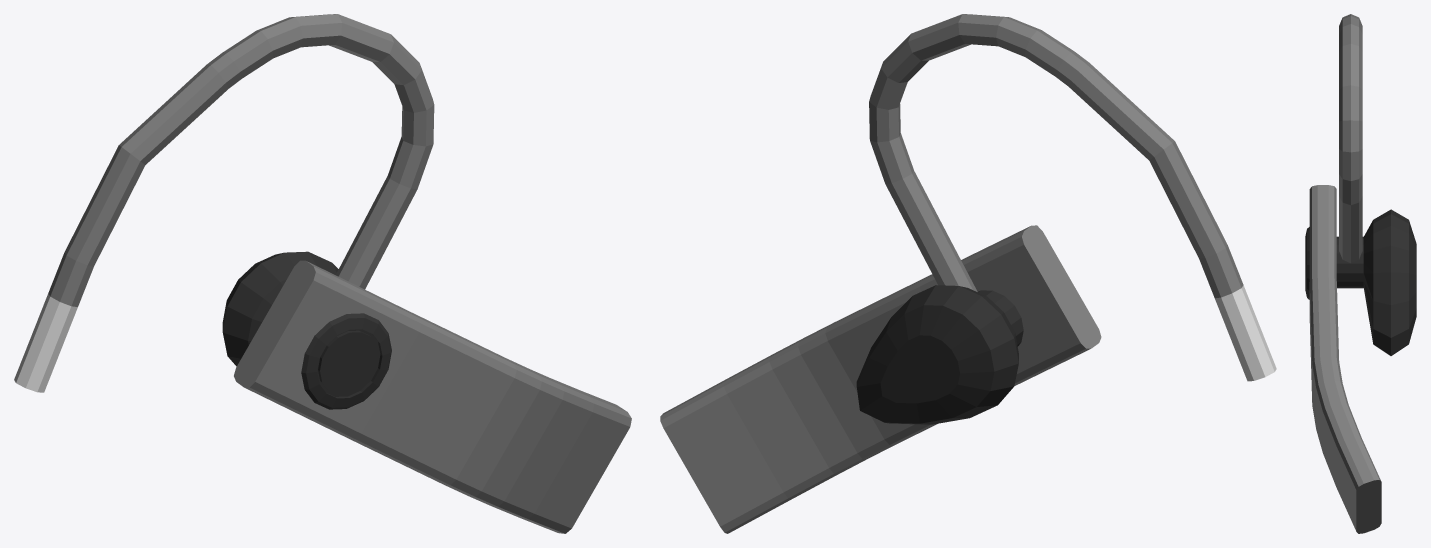
Rendered from earpiece.glb.
The picture shows the model from 3 angles, left to right: view 1: azimuth 30°, elevation 25°; view 2: azimuth 150°, elevation 25°; view 3: azimuth 270°, elevation 25°; orthographic projection. The views are drawn at different scales.
Visible parts, largest first — view 1: Bluetooth_Earpiece; view 2: Bluetooth_Earpiece; view 3: Bluetooth_Earpiece.
Boxes of the visible parts, x1=… form: Bluetooth_Earpiece: x1=14, y1=14, x2=631, y2=533; Bluetooth_Earpiece: x1=660, y1=14, x2=1276, y2=533; Bluetooth_Earpiece: x1=1305, y1=14, x2=1416, y2=533.
Size of the model in its own units: 57.71 by 52.28 by 12.7.
Materials: 1 (1 with a texture image).
